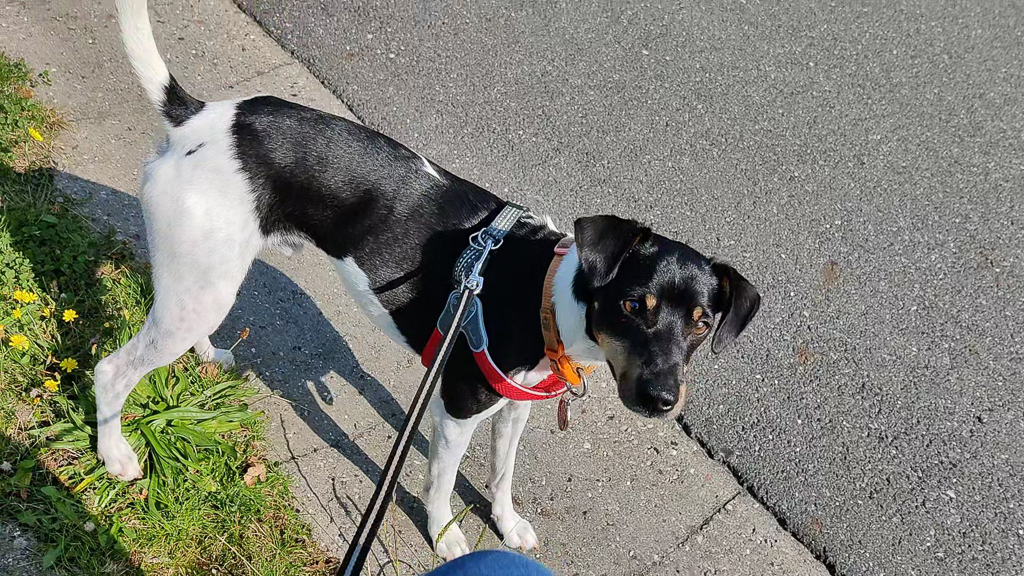Dog: (88, 0, 765, 567)
Humanoid: (399, 536, 581, 576)
